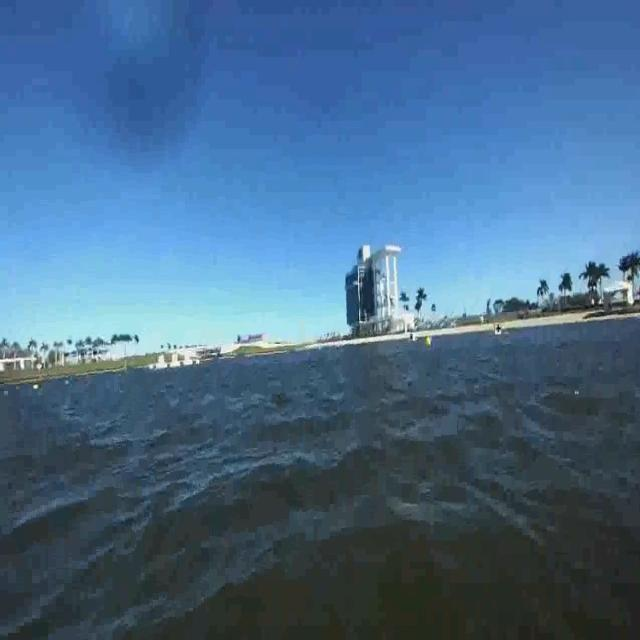yellow-buoy: (424, 336, 432, 350)
